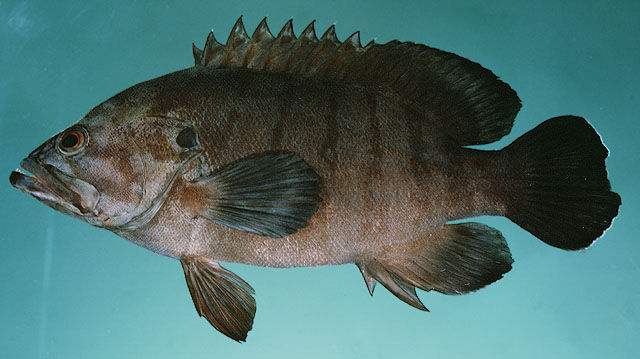fish: (10, 16, 622, 345)
